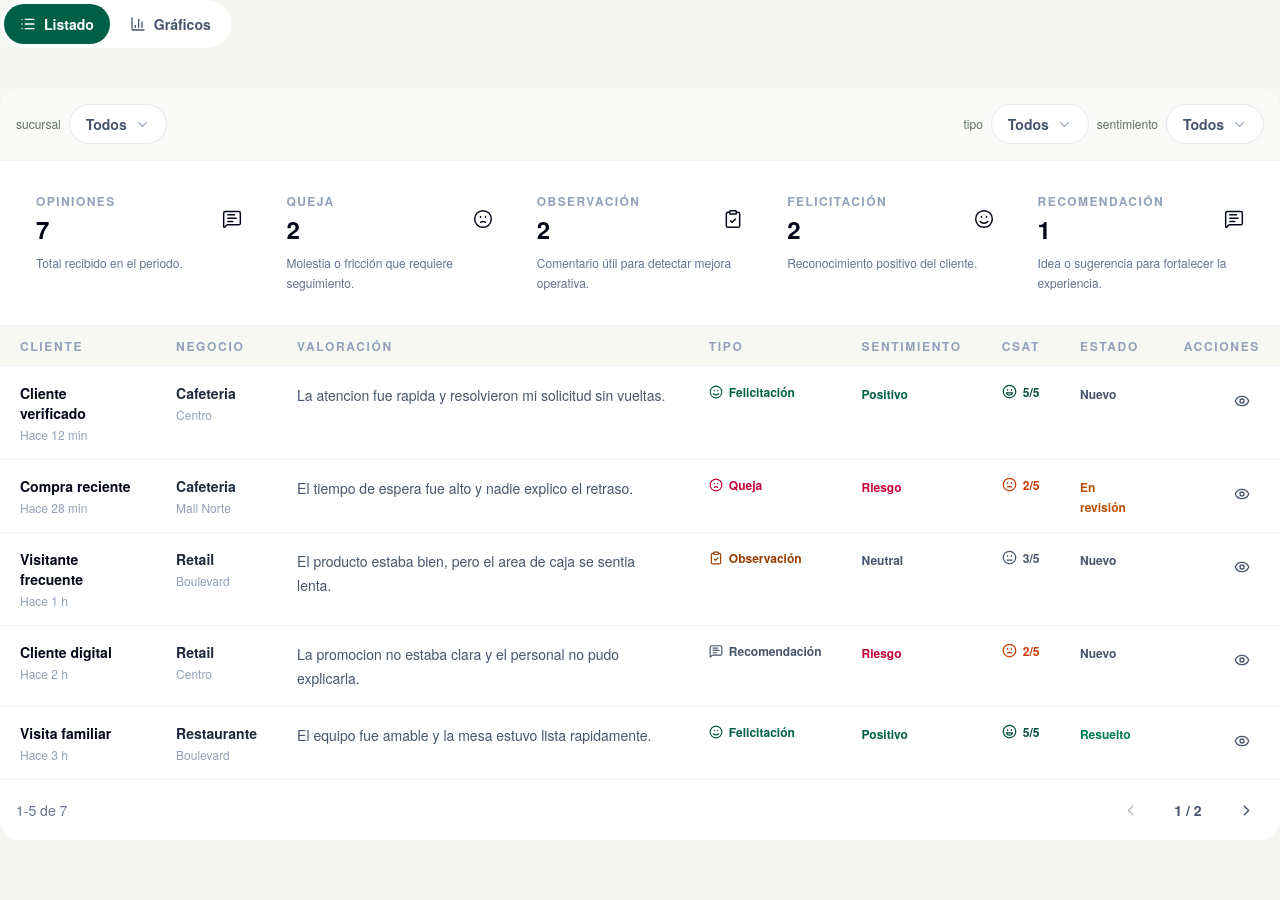
DashboardCommentsTable › filters comments by feedback type
The width and height of the screenshot is (1280, 900).
Click the dropdown named "Filtrar por tipo": {"x": 1040, "y": 124} [991,104,1089,144]
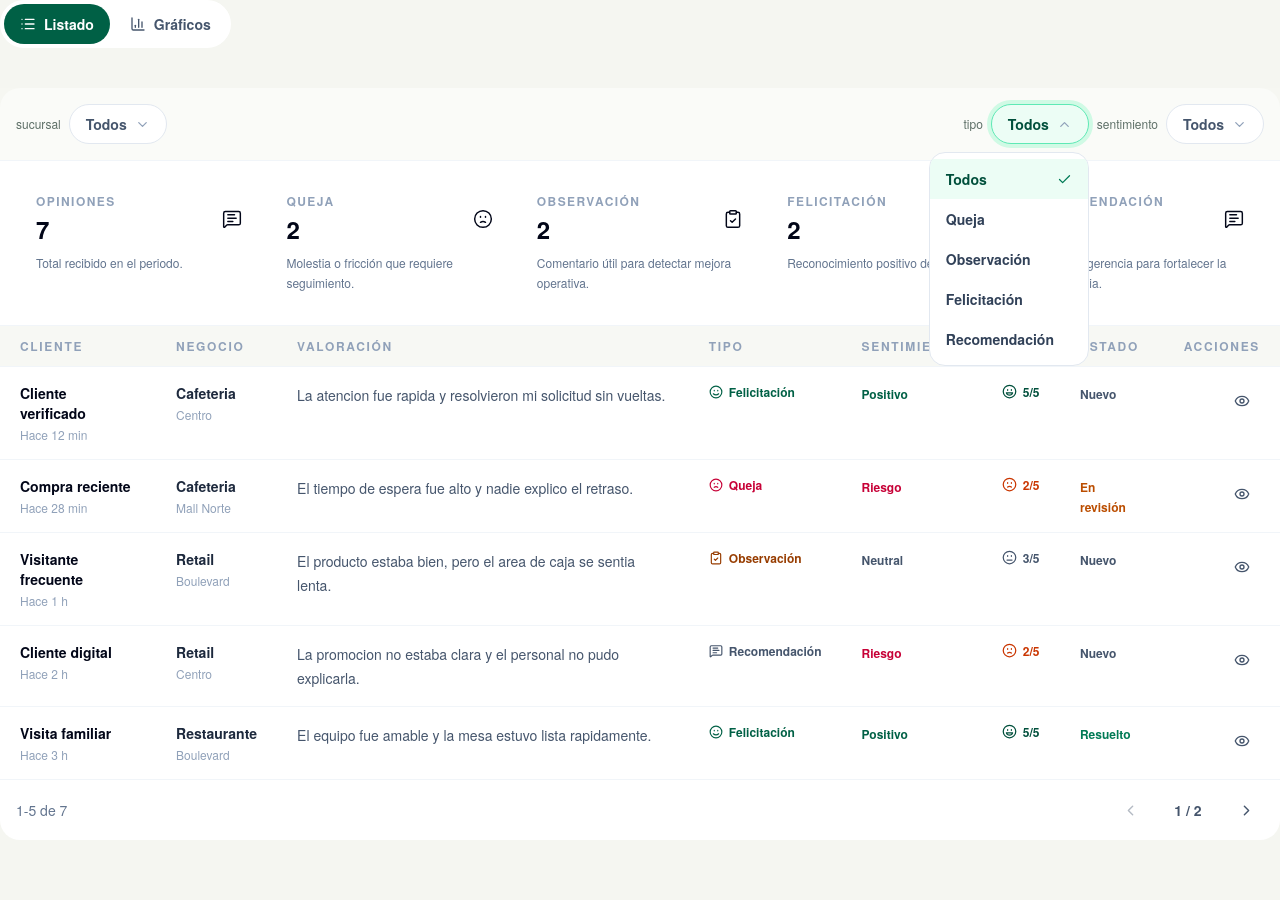
Click the option "Queja": {"x": 965, "y": 219} [946,209,985,229]
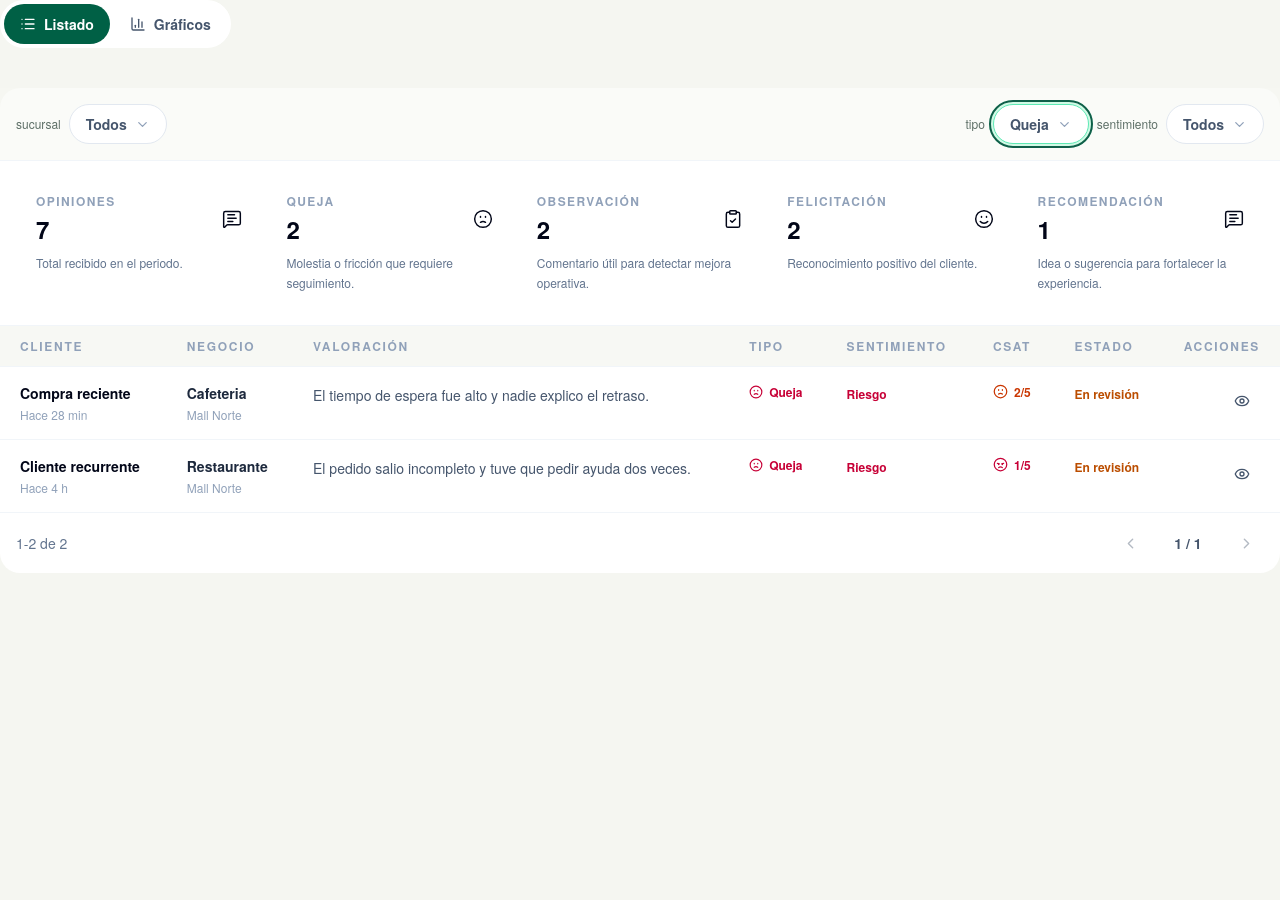
Expected: the text "Compra reciente" is shown, [20,383,147,403]
Result: the text "1-2 de 2" is shown at [16,533,67,553]
Result: the text "Cliente verificado" is gone
